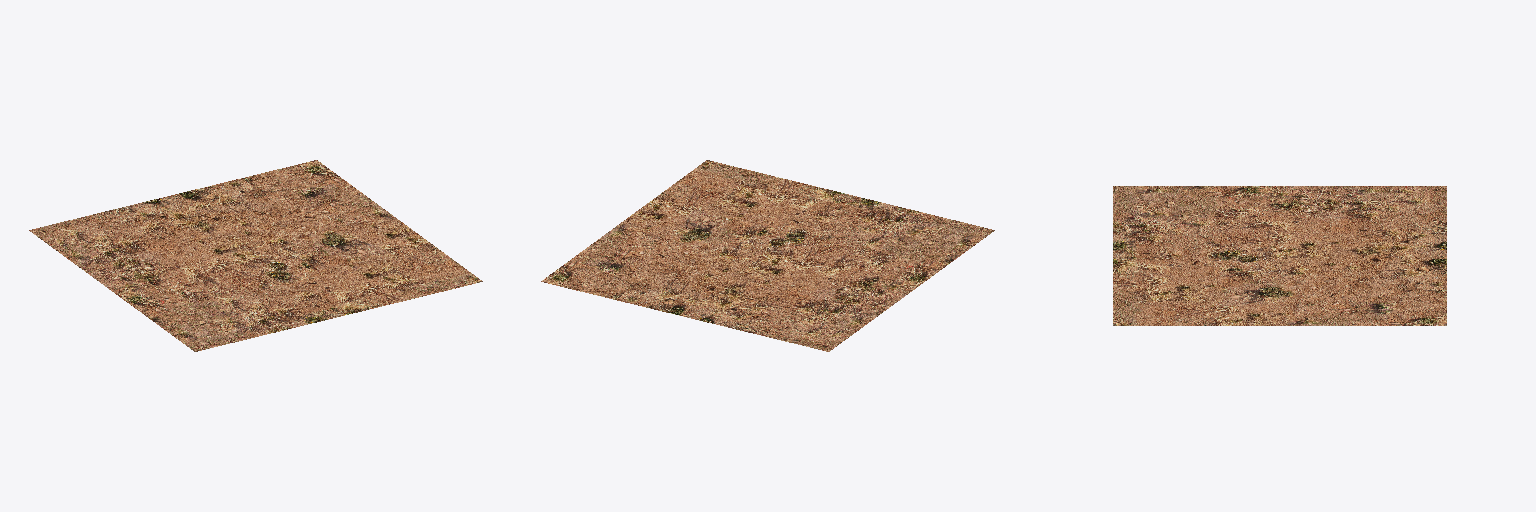
The picture shows the model from 3 angles: view 1: azimuth 30°, elevation 25°; view 2: azimuth 150°, elevation 25°; view 3: azimuth 270°, elevation 25°; orthographic projection.
Visible parts, largest first — view 1: Piso; view 2: Piso; view 3: Piso.
Part boxes in pixels (left/top/right/bottom): Piso: left=29, top=160, right=482, bottom=351; Piso: left=541, top=160, right=994, bottom=351; Piso: left=1113, top=186, right=1446, bottom=325.
Bounding box in the file's own units: 5000 × 0 × 5000.
Materials: 1 (1 with a texture image).